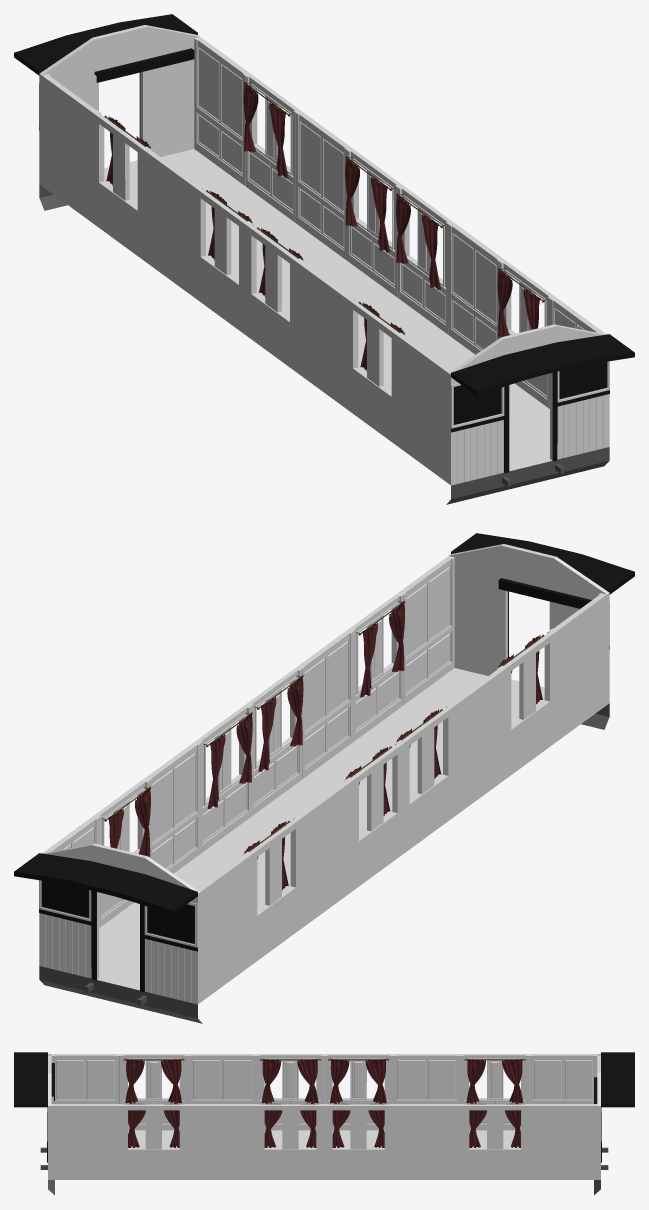
The model's file is Cart.fbx.
3 views of the same model, one above another, from view 1: azimuth 30°, elevation 25°; view 2: azimuth 150°, elevation 25°; view 3: azimuth 270°, elevation 25° (orthographic). The views are drawn at different scales.
Parts seen in each view (by area): view 1: Wall_Window 1.005; view 2: Wall_Window 1.005; view 3: Wall_Window 1.005.
Part boxes in pixels (box(x1,y1,x2,y2)): Wall_Window 1.005: box(14, 14, 634, 504); Wall_Window 1.005: box(14, 533, 634, 1023); Wall_Window 1.005: box(14, 1052, 634, 1194).
Size of the model in its own units: 360 by 340 by 1820.
